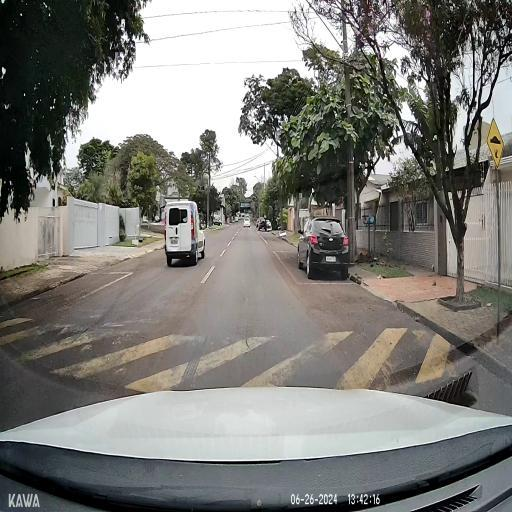A-18: (486, 116, 504, 168)
